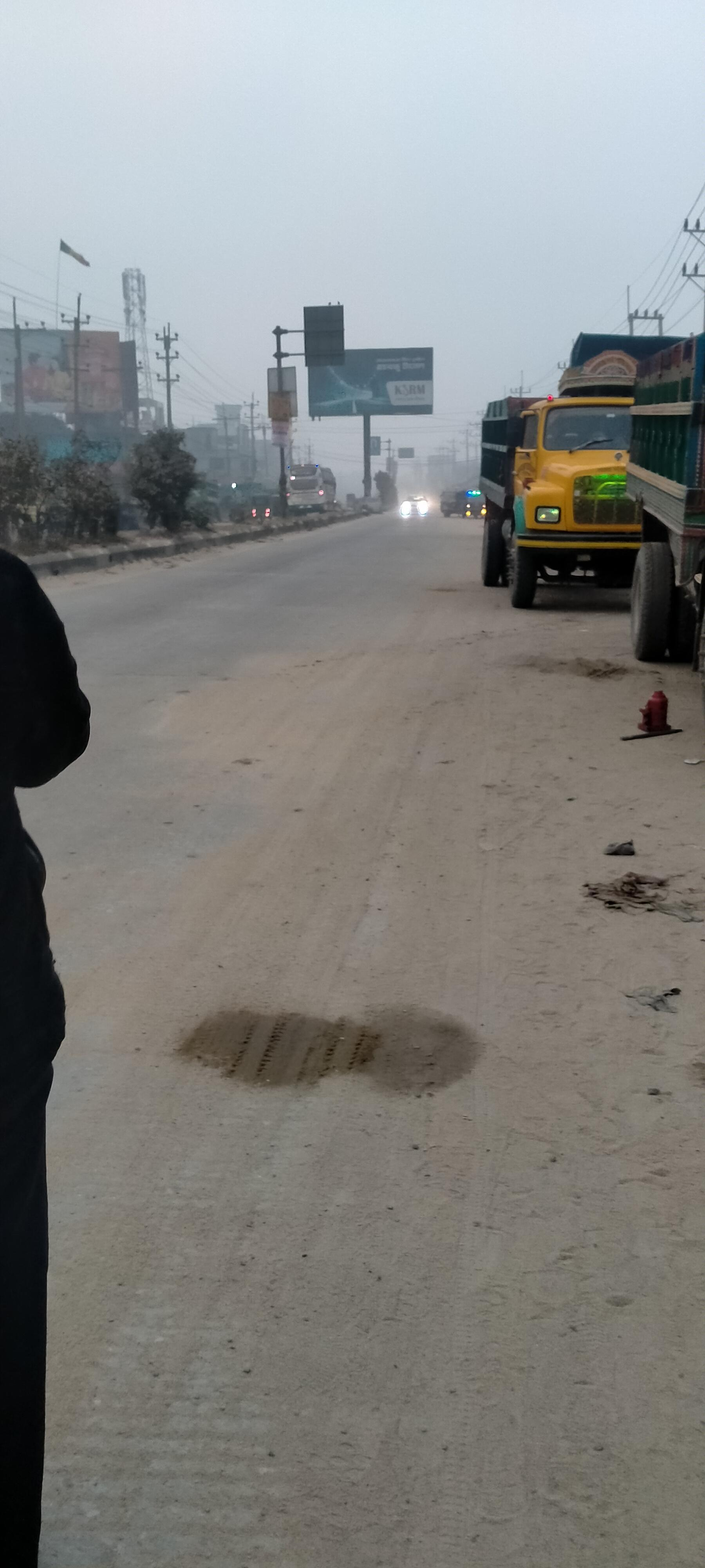Bus: (276, 446, 362, 535)
Truck: (429, 302, 658, 633)
